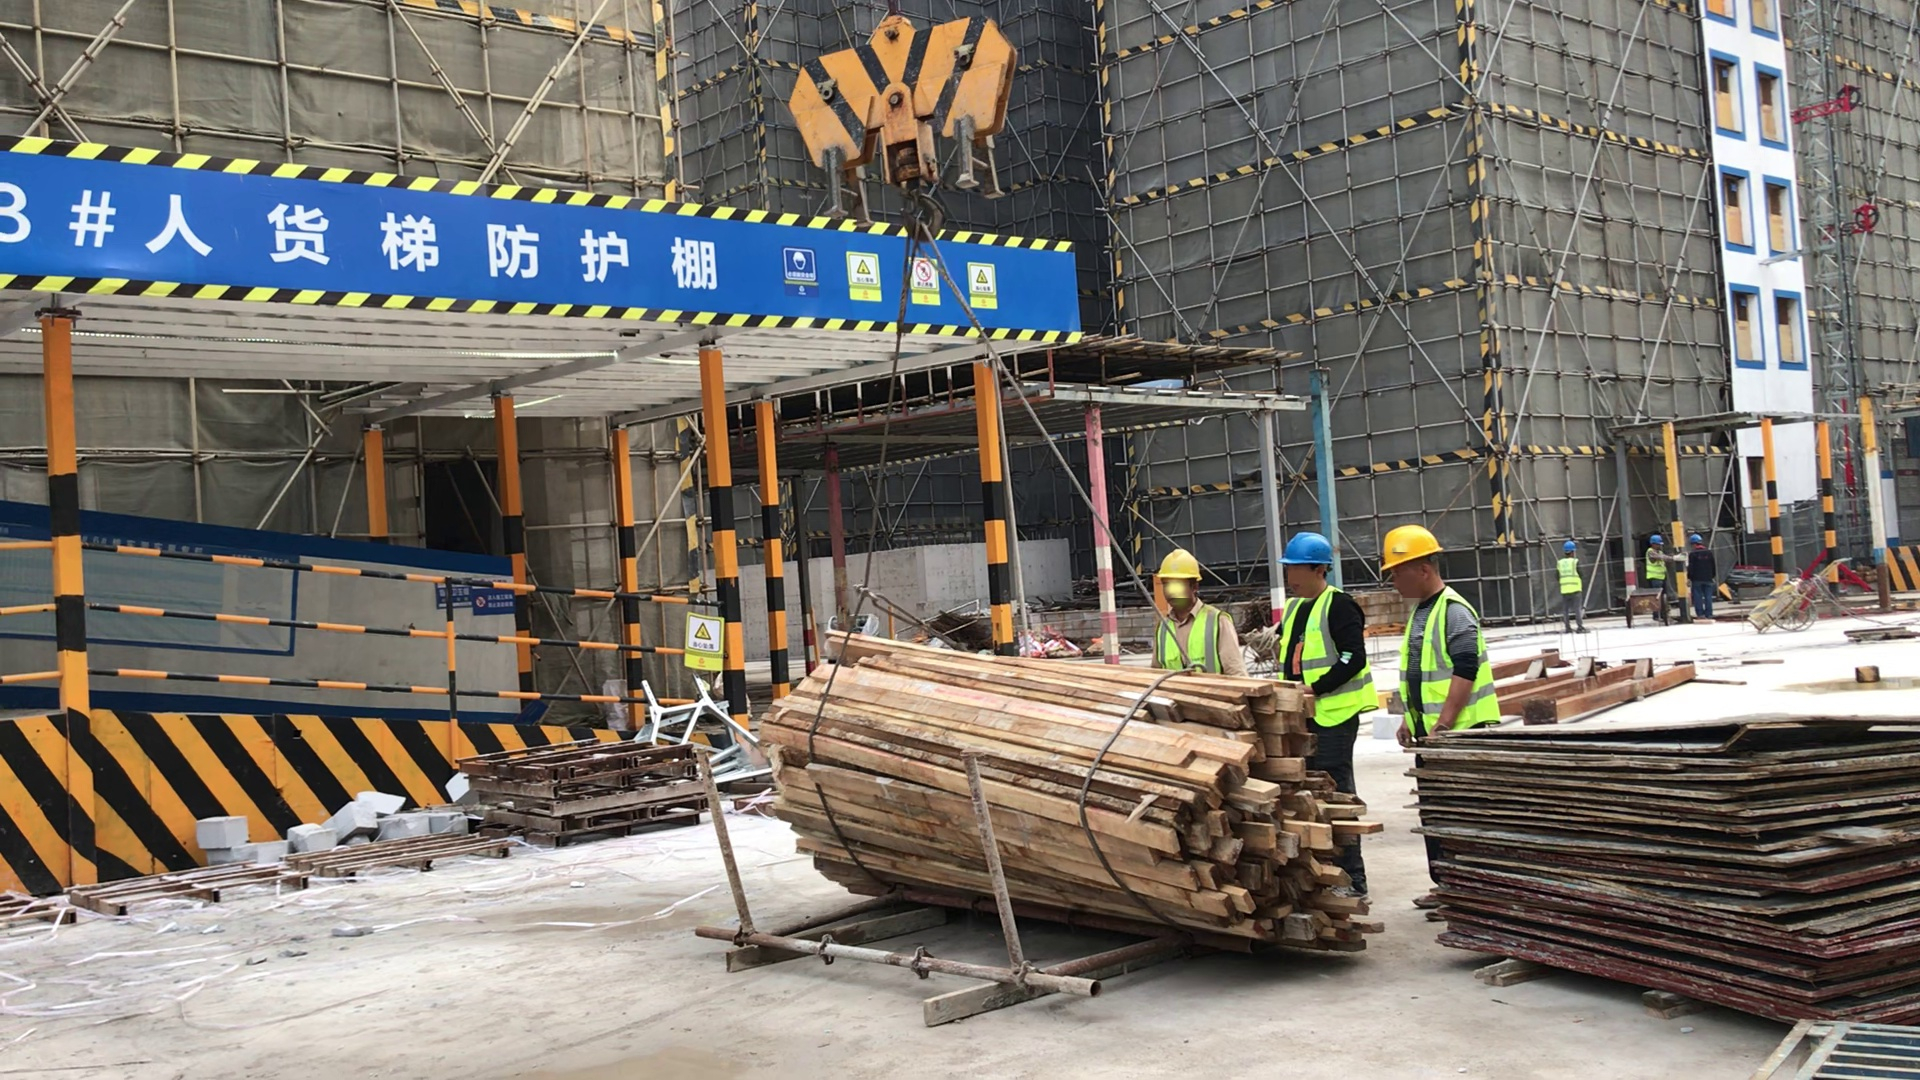helmet: (1374, 524, 1443, 580), (1276, 532, 1340, 568), (1150, 546, 1202, 584), (1646, 533, 1665, 549), (1559, 537, 1575, 554), (1690, 531, 1705, 545)
person: (1380, 522, 1513, 921), (1271, 528, 1383, 908), (1150, 543, 1252, 689), (1641, 530, 1685, 614), (1555, 535, 1591, 635), (1682, 534, 1719, 623)
vest: (1399, 581, 1506, 737), (1272, 583, 1375, 734), (1138, 600, 1229, 678)
